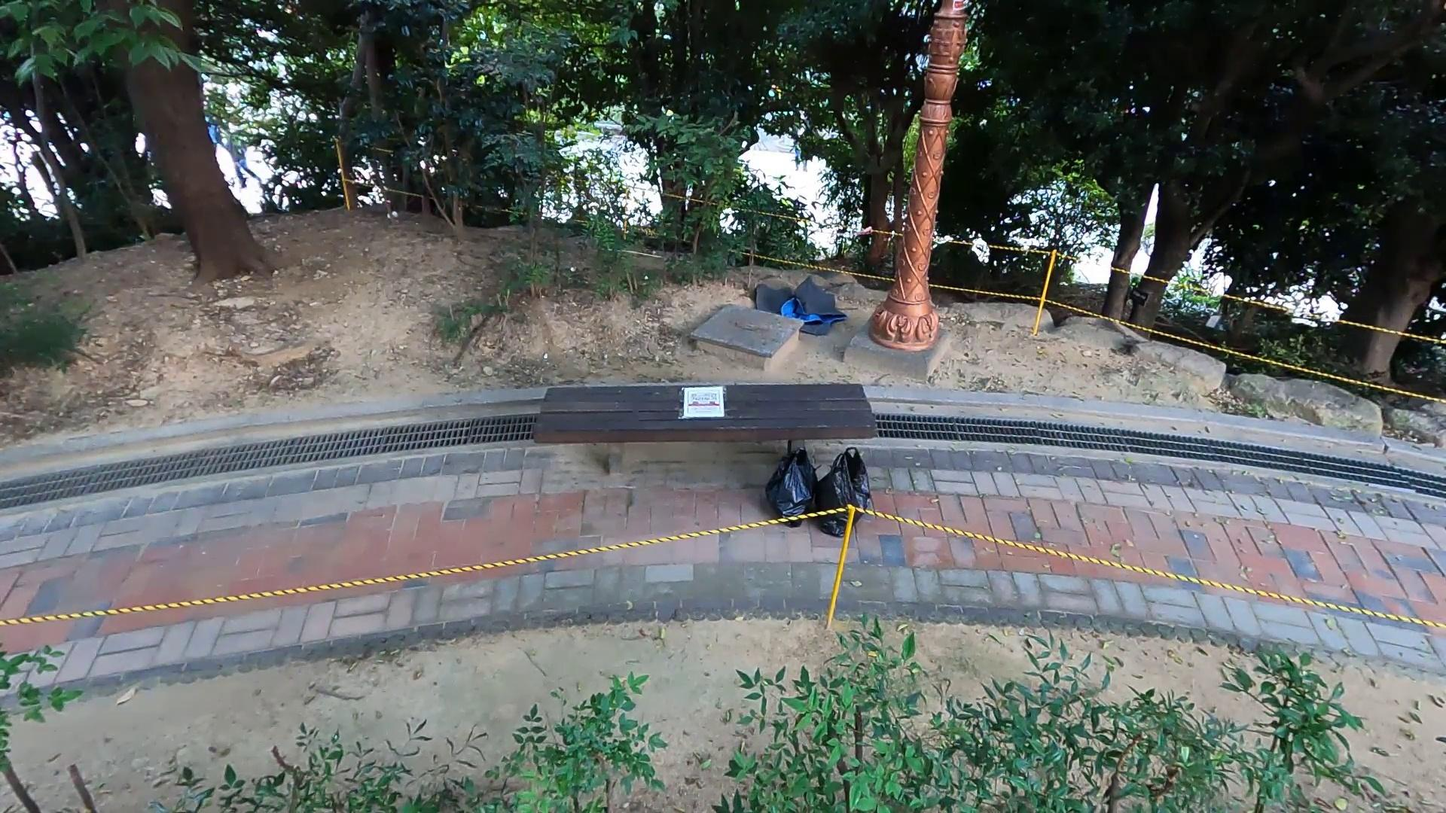trash: (749, 273, 852, 337), (812, 445, 870, 536), (764, 438, 818, 524)
